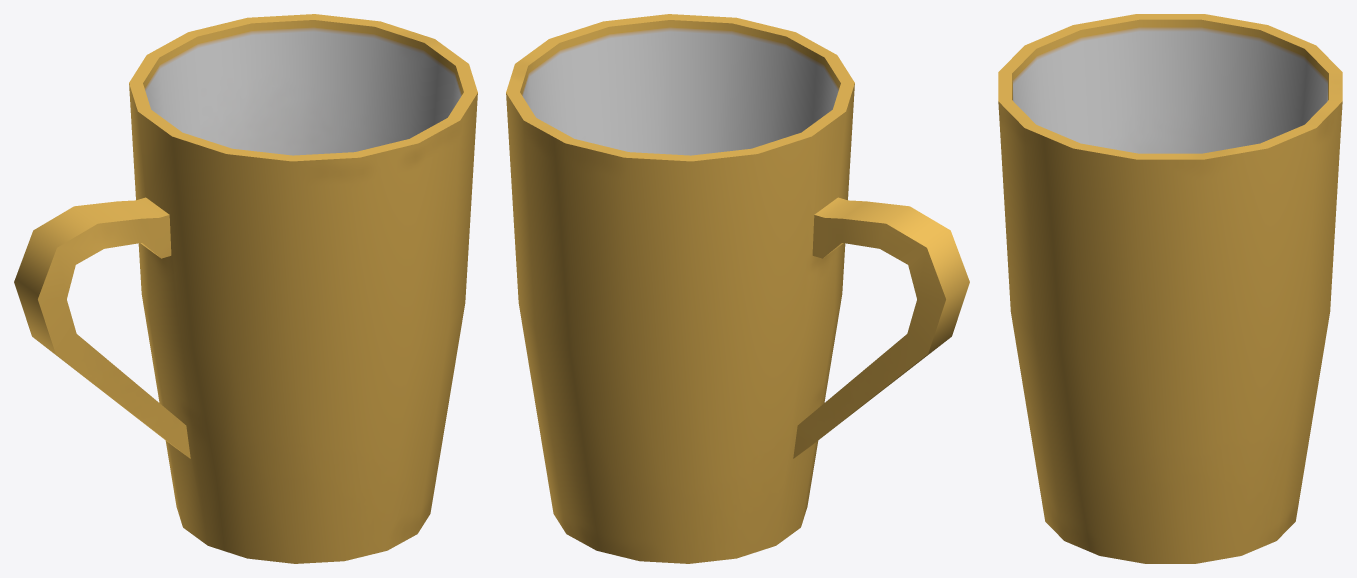
The model's file is CupA.FBX.
The picture shows the model from 3 angles, left to right: view 1: azimuth 30°, elevation 25°; view 2: azimuth 150°, elevation 25°; view 3: azimuth 270°, elevation 25°; orthographic projection.
Visible parts, largest first — view 1: CupA_LOD0; view 2: CupA_LOD0; view 3: CupA_LOD0.
Part boxes in pixels (x1,y1,x2,y2): CupA_LOD0: [14, 14, 477, 563]; CupA_LOD0: [506, 14, 969, 563]; CupA_LOD0: [998, 14, 1342, 563].
Size of what is drawn, in the model's own units: 12.66 by 12 by 8.83.
